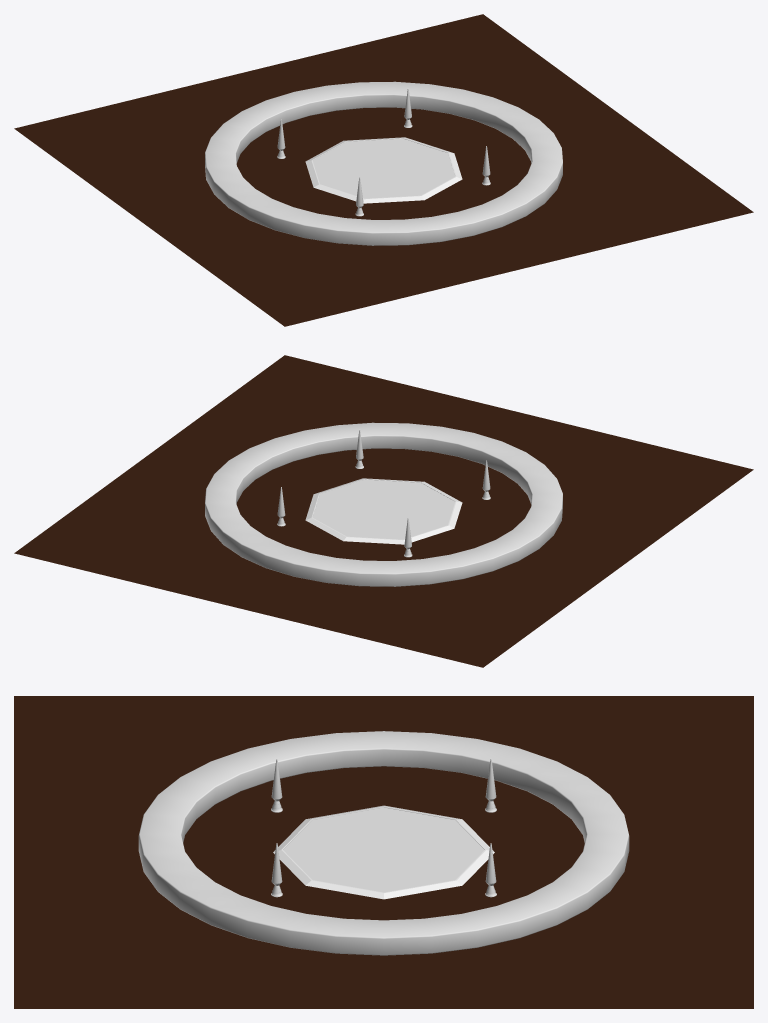
The model's file is Arena.fbx.
The picture shows the model from 3 angles, top to bottom: view 1: azimuth 30°, elevation 25°; view 2: azimuth 150°, elevation 25°; view 3: azimuth 270°, elevation 25°; orthographic projection. The views are drawn at different scales.
Parts seen in each view (by area): view 1: Plane.001, Circle, Cylinder.001; view 2: Plane.001, Circle, Cylinder.001; view 3: Plane.001, Circle, Cylinder.001.
Part boxes in pixels (bbox=[...]): Plane.001: bbox=[14, 14, 753, 326]; Circle: bbox=[205, 81, 562, 245]; Cylinder.001: bbox=[305, 137, 462, 203]; Plane.001: bbox=[14, 355, 753, 667]; Circle: bbox=[205, 422, 562, 586]; Cylinder.001: bbox=[305, 478, 462, 544]; Plane.001: bbox=[14, 696, 753, 1008]; Circle: bbox=[138, 731, 629, 955]; Cylinder.001: bbox=[273, 805, 494, 899].
Size of the model in its own units: 31305 by 2390 by 31305.
